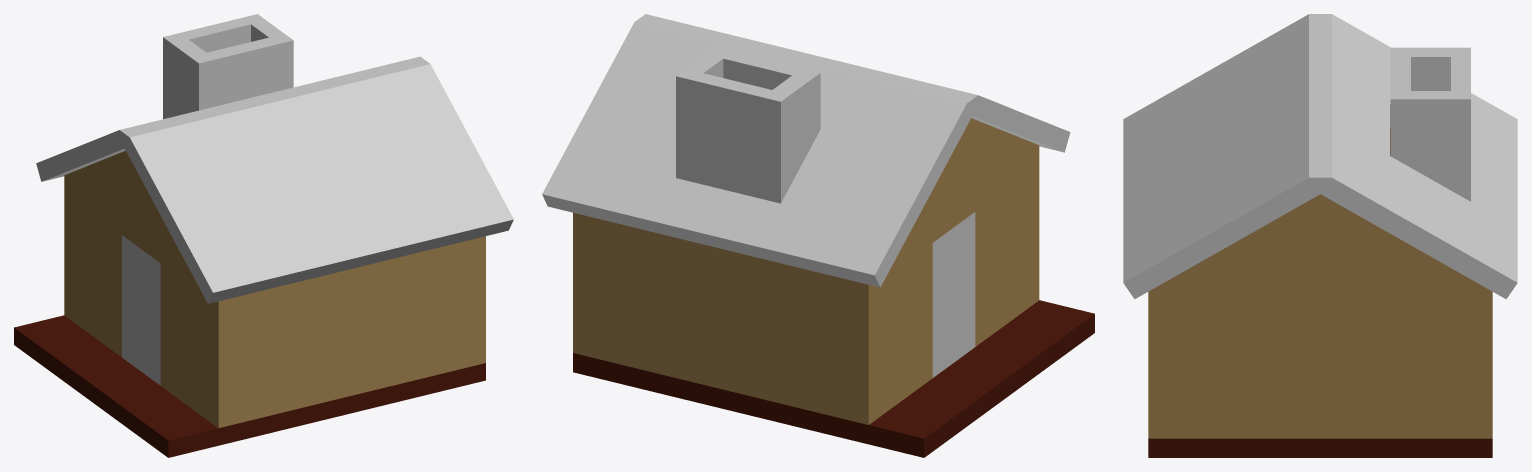
Rendered from House.obj.
3 views of the same model, side by side, from view 1: azimuth 30°, elevation 25°; view 2: azimuth 150°, elevation 25°; view 3: azimuth 270°, elevation 25° (orthographic). The views are drawn at different scales.
Visible parts, largest first — view 1: Part4, Part17, Part31, Part21, Part30, Part24, Door1, Part18, Part7, Part1, Part13, Part20 (+6 smaller); view 2: Part25, Part6, Part12, Part31, Part8, Part21, Part30, Part5, Door1, Part24, Part18, Part1 (+9 smaller); view 3: Part15, Part4, Part12, Part9, Part2, Part11, Part24, Part14, Part6, Part1, Part3, Part17 (+5 smaller).
Part boxes in pixels (left/top/right/bottom): Part4: left=125, top=64, right=513, bottom=303; Part17: left=209, top=240, right=485, bottom=428; Part31: left=14, top=315, right=218, bottom=457; Part21: left=160, top=264, right=208, bottom=420; Part30: left=74, top=200, right=121, bottom=357; Part24: left=218, top=363, right=485, bottom=445; Door1: left=122, top=235, right=160, bottom=385; Part18: left=163, top=33, right=215, bottom=119; Part7: left=207, top=37, right=277, bottom=106; Part1: left=119, top=56, right=429, bottom=151; Part13: left=64, top=150, right=141, bottom=231; Part20: left=64, top=176, right=235, bottom=305; Part25: left=573, top=217, right=879, bottom=424; Part6: left=758, top=75, right=972, bottom=287; Part12: left=542, top=22, right=744, bottom=233; Part31: left=868, top=300, right=1094, bottom=457; Part8: left=693, top=73, right=771, bottom=198; Part21: left=975, top=173, right=1028, bottom=346; Part30: left=879, top=243, right=932, bottom=416; Part5: left=653, top=178, right=780, bottom=258; Door1: left=932, top=212, right=975, bottom=377; Part24: left=573, top=353, right=868, bottom=444; Part18: left=762, top=68, right=820, bottom=203; Part1: left=634, top=14, right=978, bottom=119; Part15: left=1170, top=302, right=1470, bottom=438; Part4: left=1123, top=14, right=1319, bottom=299; Part12: left=1321, top=123, right=1517, bottom=299; Part9: left=1390, top=91, right=1470, bottom=201; Part2: left=1165, top=194, right=1320, bottom=282; Part11: left=1320, top=194, right=1475, bottom=282; Part24: left=1148, top=438, right=1492, bottom=457; Part14: left=1148, top=282, right=1492, bottom=301; Part6: left=1332, top=14, right=1517, bottom=176; Part1: left=1309, top=14, right=1331, bottom=193; Part3: left=1332, top=72, right=1389, bottom=155; Part17: left=1148, top=302, right=1169, bottom=438.
Size of the model in its own units: 20 by 16.07 by 18.34.
